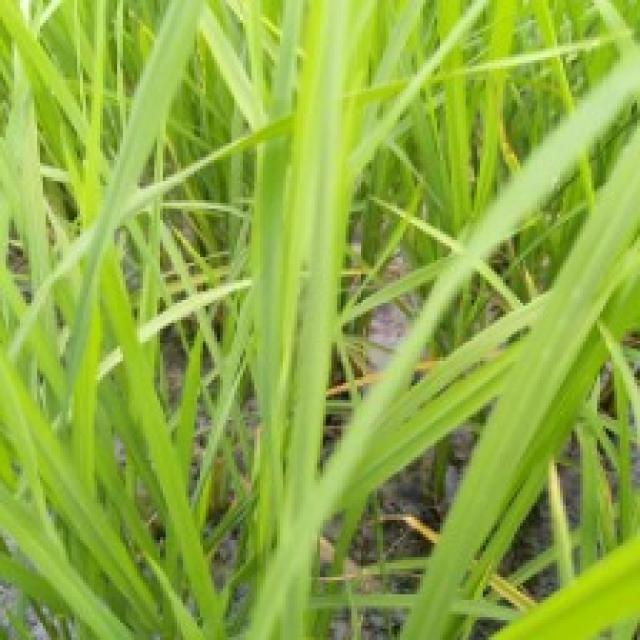Bacterial_Blight: (373, 508, 537, 616), (308, 371, 378, 397)
